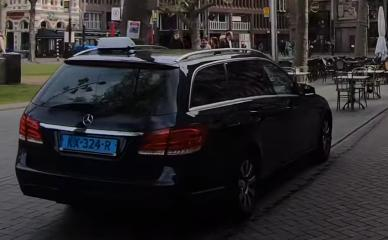license-plate: (59, 134, 119, 157)
